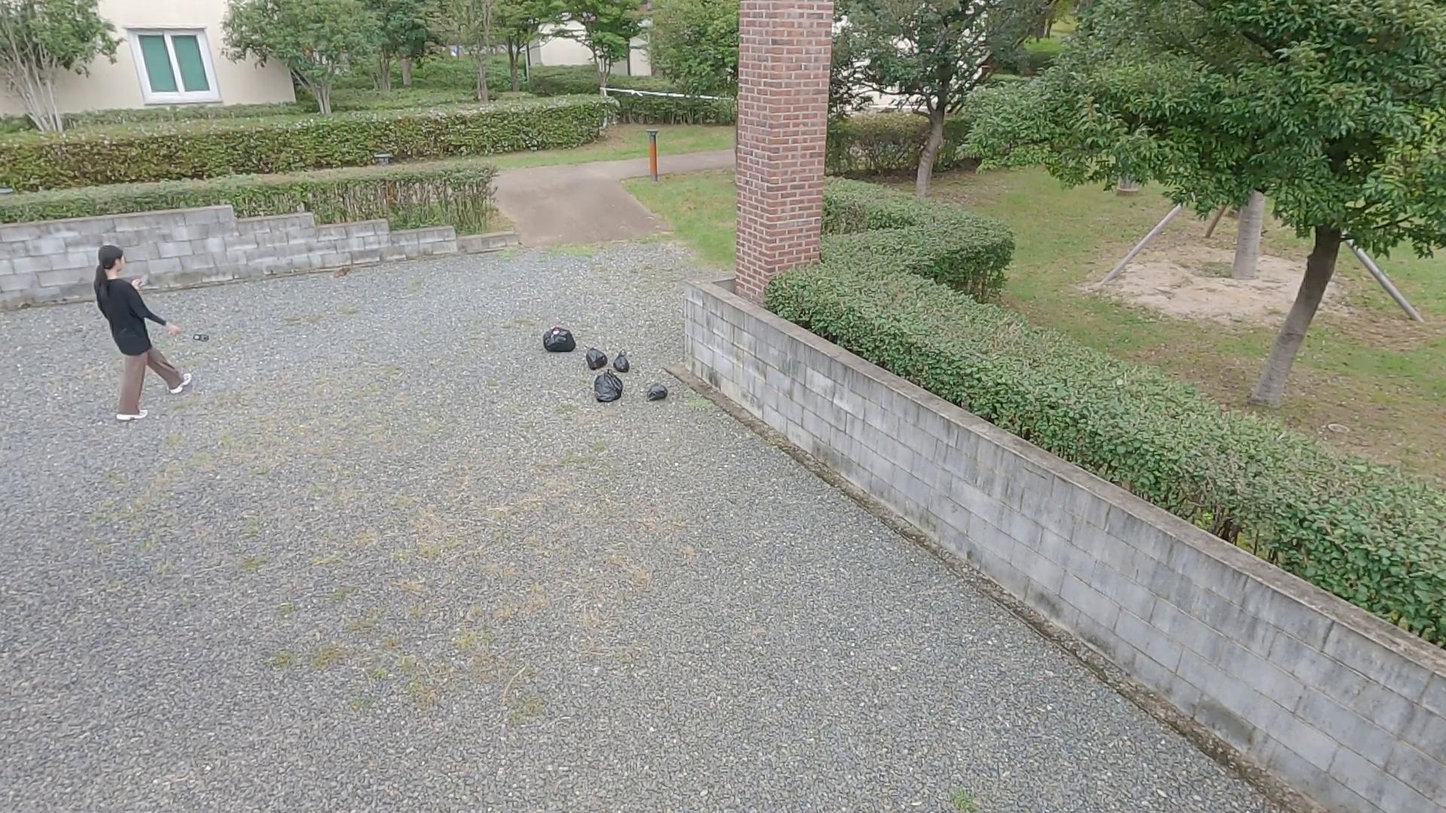person: (85, 234, 201, 429)
trash: (590, 366, 627, 407), (541, 322, 577, 358), (585, 341, 608, 372), (646, 380, 668, 406), (613, 350, 633, 375)
